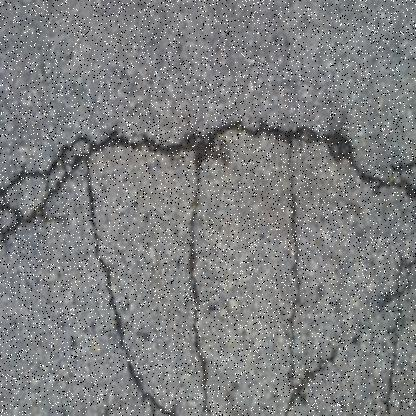Cracks: (0, 111, 415, 255), (252, 116, 416, 416), (82, 121, 220, 415)
